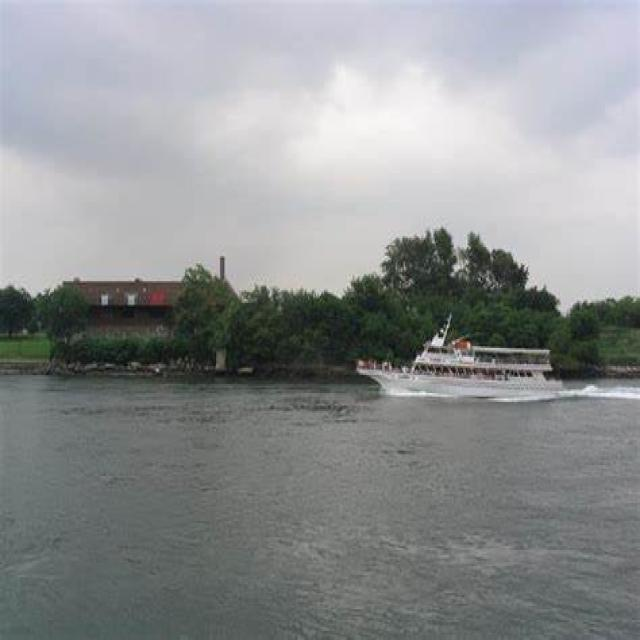houseboat: (348, 311, 574, 397)
